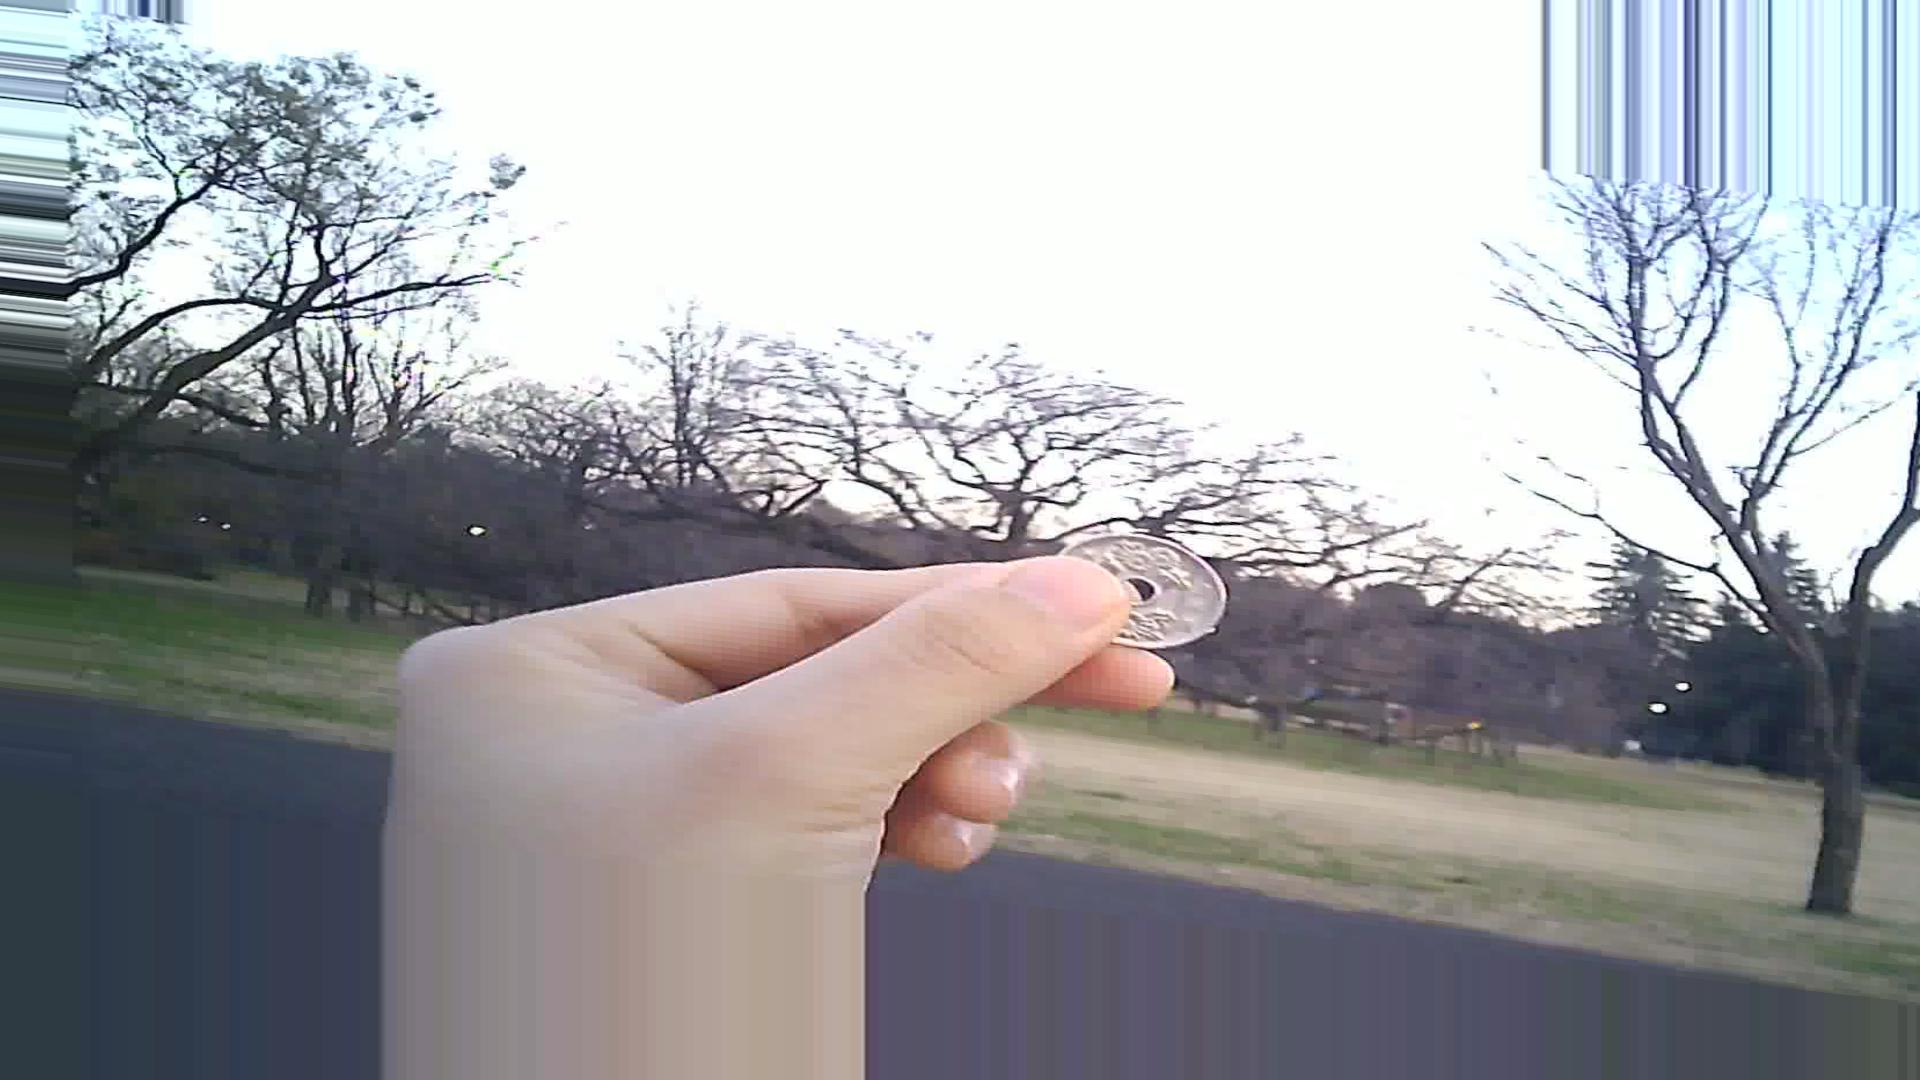50 Yen: (1036, 525, 1230, 659)
